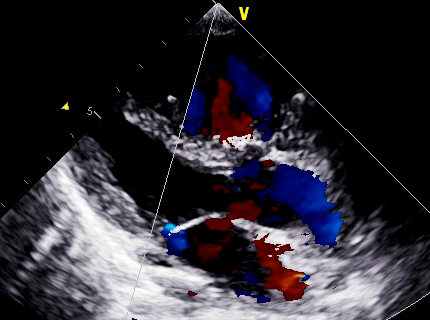AR: (213, 174, 291, 230)
